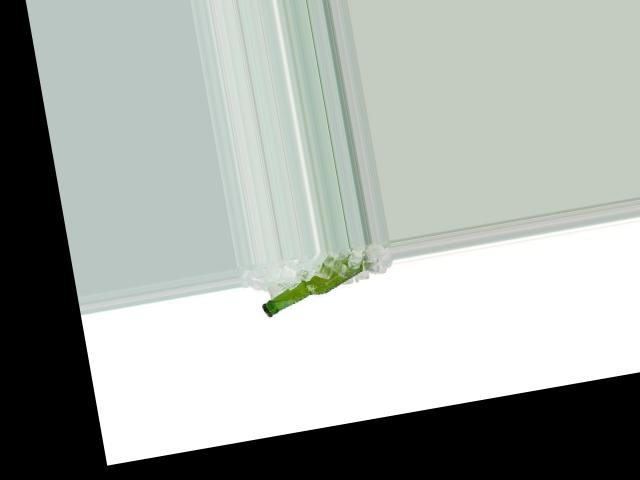beer: (255, 258, 375, 317)
